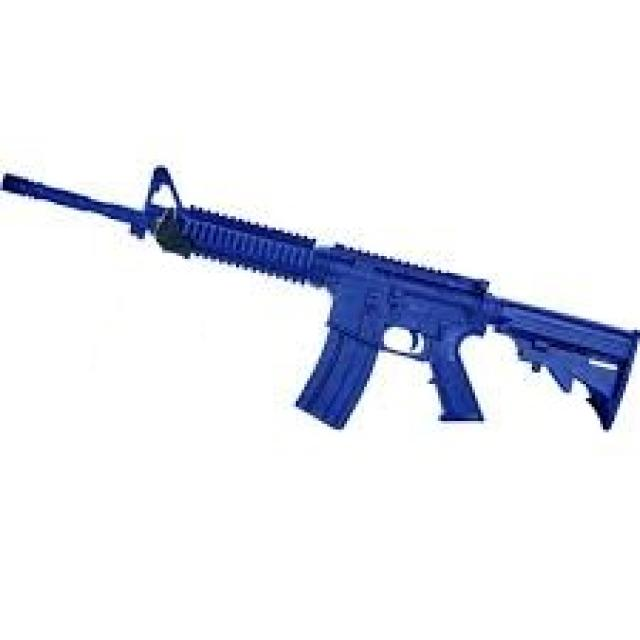rifle: (1, 156, 640, 443)
